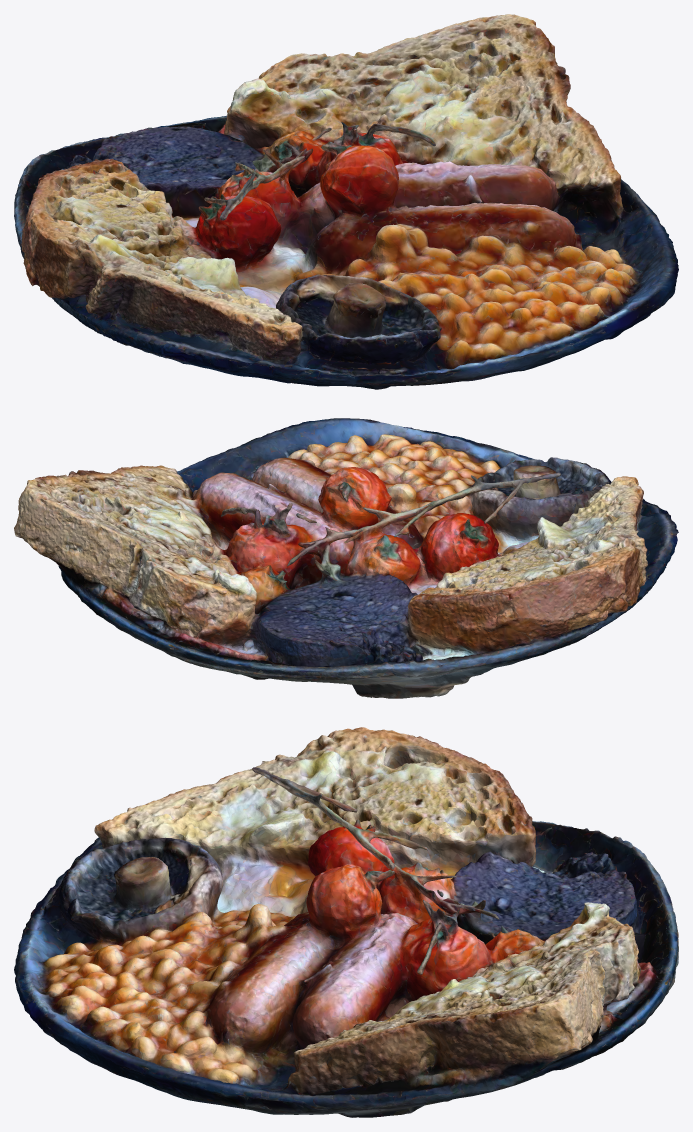
Rendered from foodplater-transformed.glb.
3 renders of one model, top to bottom at view 1: azimuth 30°, elevation 25°; view 2: azimuth 150°, elevation 25°; view 3: azimuth 270°, elevation 25°, orthographic. The views are drawn at different scales.
Size of the model in its own units: 0.2699 by 0.0645 by 0.2599.
Materials: 1 (1 with a texture image).
